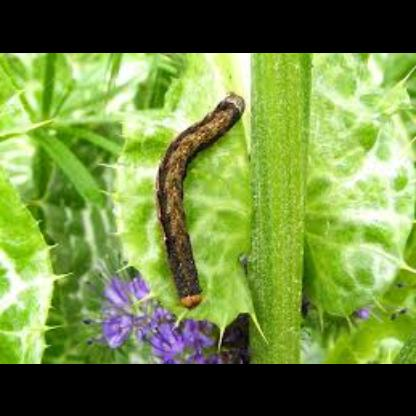oruga: (159, 87, 253, 315)
